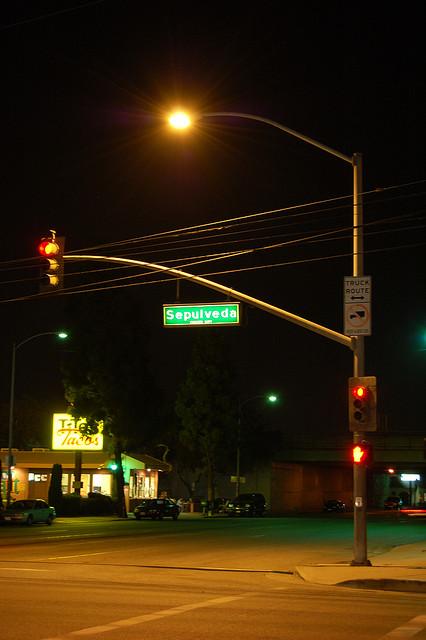car: (127, 495, 190, 526)
